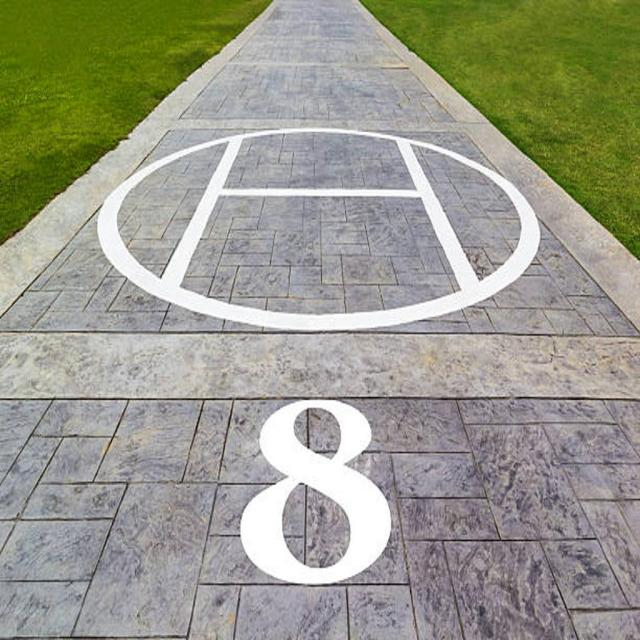helipad: (95, 123, 542, 333)
